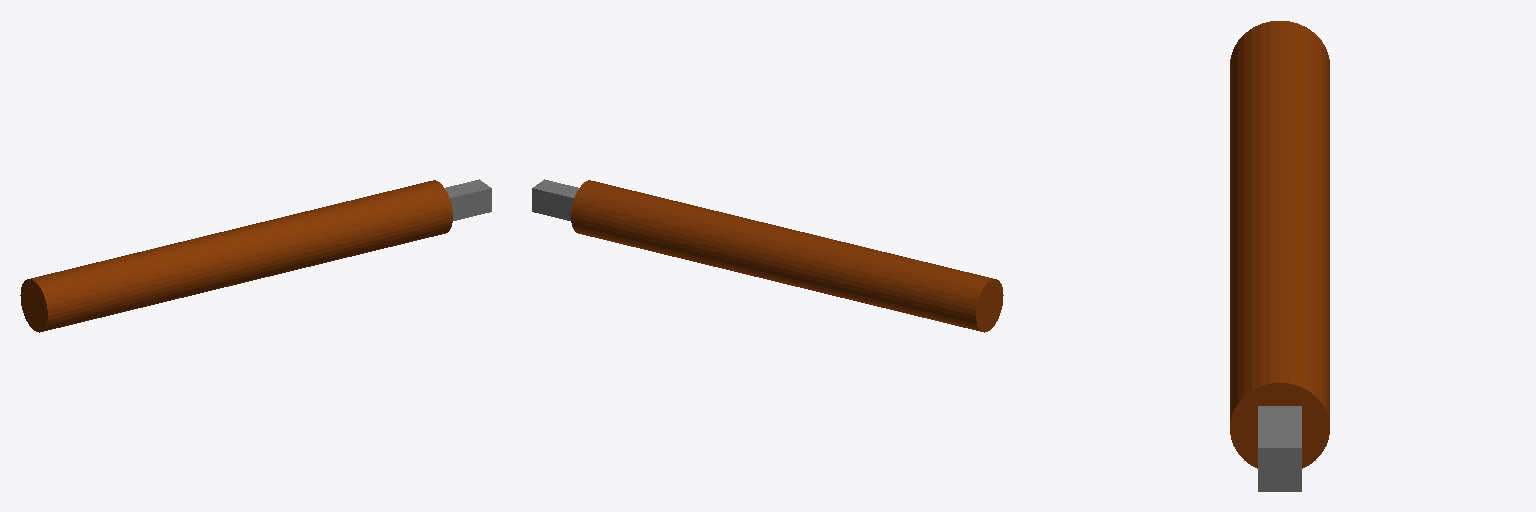
URDF robot description (handle_head):
<?xml version="1.0"?>
<robot name="handle_head">

  <link name="handle_head">
    <!-- Handle -->
    <visual>
              <origin xyz="0 0 0" rpy="0 -1.5707963267948966 0"/>
        <geometry>
          <cylinder length="0.14117619838154594" radius="0.008282458033953582"/>
        </geometry>
        
      <material name="brown">
        <color rgba="0.55 0.27 0.07 1.0"/>
      </material>
    </visual>
    <collision>
              <origin xyz="0 0 0" rpy="0 -1.5707963267948966 0"/>
        <geometry>
          <cylinder length="0.14117619838154594" radius="0.008282458033953582"/>
        </geometry>
        
    </collision>

    <!-- Head -->
    <visual>
              <origin xyz="0.07865208817683648 0 0" rpy="0 0 0"/>
        <geometry>
          <box size="0.01612797797212703 0.00723204436213711 0.007949926957617742"/>
        </geometry>
        
      <material name="gray">
        <color rgba="0.5 0.5 0.5 1.0"/>
      </material>
    </visual>
    <collision>
              <origin xyz="0.07865208817683648 0 0" rpy="0 0 0"/>
        <geometry>
          <box size="0.01612797797212703 0.00723204436213711 0.007949926957617742"/>
        </geometry>
        
    </collision>

    <inertial>
      <origin xyz="0.0020849263137803623 0 0" rpy="0 0 0"/>
      <mass value="0.019278816258726565"/>
      <inertia ixx="6.393048755790297e-07" iyy="3.971838835229915e-05" izz="3.9717924199298626e-05" ixy="0" ixz="0" iyz="0"/>
    </inertial>
  </link>

</robot>

--- Render facts (derived) ---
Views: 3 orthographic renders of the robot side by side, from view 1: azimuth 30°, elevation 25°; view 2: azimuth 150°, elevation 25°; view 3: azimuth 270°, elevation 25°.
Model handle_head with 1 links and 0 joints (none), rooted at handle_head, posed all joints at 0.
Visible links, largest first — view 1: handle_head; view 2: handle_head; view 3: handle_head.
Link boxes in pixels (x1=…): handle_head: x1=20, y1=179, x2=491, y2=332; handle_head: x1=532, y1=179, x2=1003, y2=332; handle_head: x1=1230, y1=21, x2=1329, y2=491.
Bounding box of the posed robot: 0.1573 × 0.0166 × 0.0166 m (x, y, z).
Geometry: primitives only (box / cylinder / sphere), no mesh files.
